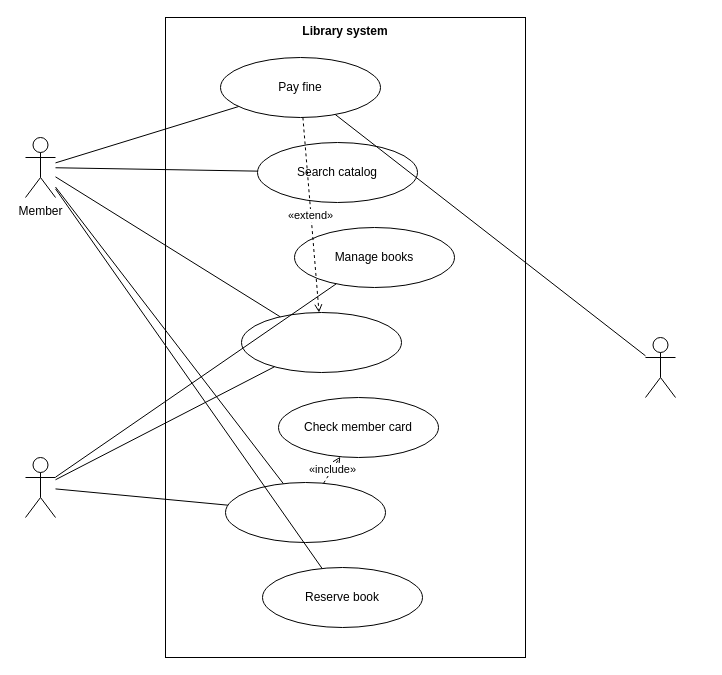
Image size: 722x675. Some labels were removed from this diagram. The shapes that lost their labels are listed below. From the top down, each one's centre as x and y in pixels, then its label:
At (321,342): "Return book".
At (660,367): "«system» Payment service".
At (40,487): "Librarian".
At (305,512): "Borrow book".
